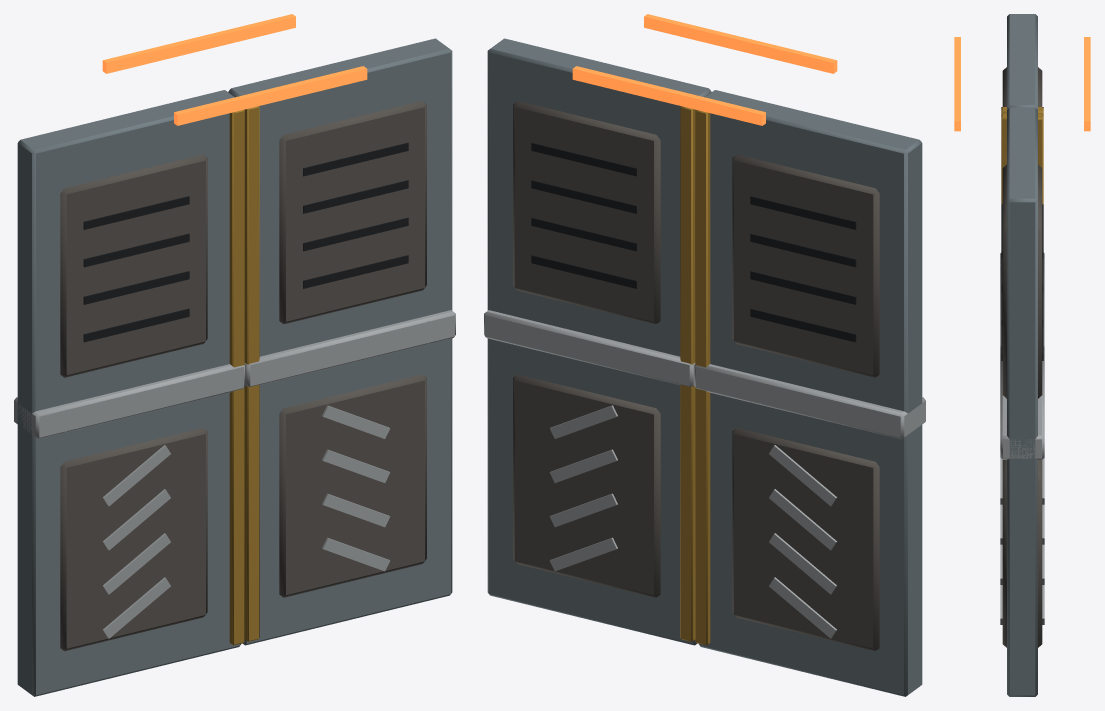
Rendered from door.glb.
3 renders of one model, left to right at view 1: azimuth 30°, elevation 25°; view 2: azimuth 150°, elevation 25°; view 3: azimuth 270°, elevation 25°, orthographic. The views are drawn at different scales.
Parts seen in each view (by area): view 1: door__panel_L, door__panel_R, door__status; view 2: door__panel_L, door__panel_R, door__status; view 3: door__panel_R, door__panel_L, door__status.
Part boxes in pixels (x1,y1,x2,y2): door__panel_L: [14, 90, 245, 696]; door__panel_R: [228, 38, 455, 645]; door__status: [102, 14, 367, 125]; door__panel_L: [694, 90, 925, 696]; door__panel_R: [484, 38, 711, 645]; door__status: [572, 14, 837, 125]; door__panel_R: [1000, 107, 1044, 696]; door__panel_L: [1000, 14, 1044, 346]; door__status: [954, 37, 1090, 131].
Bounding box in the file's own units: 2 × 2.62 × 0.614.
4 materials, 1 textured.
